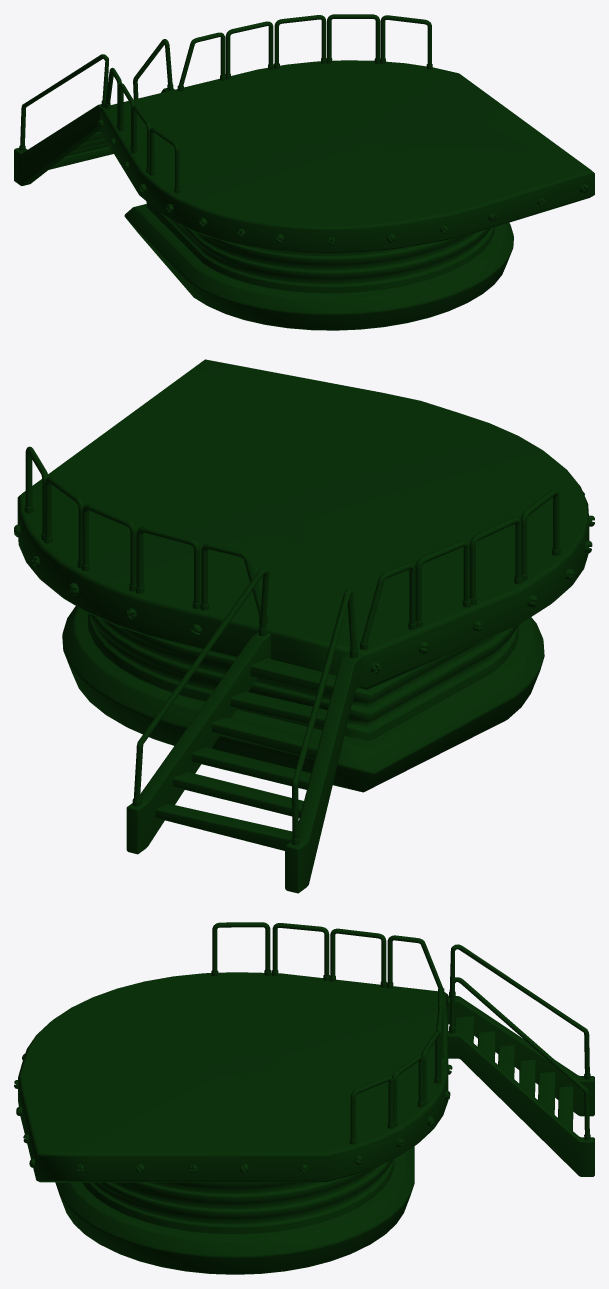
File: DrMonstro_PodiumStructure.fbx
3 renders of one model, top to bottom at view 1: azimuth 30°, elevation 25°; view 2: azimuth 150°, elevation 25°; view 3: azimuth 270°, elevation 25°, orthographic. The views are drawn at different scales.
Visible parts, largest first — view 1: podium_base, stairs_base, railing_11, stairs, railing_02, railing_05, railing_04, railing_03, railing_01, railing_09, railing_10, railing_08 (+1 smaller); view 2: podium_base, stairs_base, stairs, railing_10, railing_11, railing_02, railing_07, railing_03, railing_06, railing_08, railing_09, railing_01 (+2 smaller); view 3: podium_base, stairs_base, stairs, railing_10, railing_11, railing_09, railing_08, railing_07, railing_05, railing_06, railing_04, railing_03.
Part boxes in pixels (x1,y1,x2,y2): podium_base: (98, 60, 594, 330); stairs_base: (14, 88, 174, 185); railing_11: (19, 54, 108, 150); stairs: (49, 130, 113, 169); railing_02: (225, 21, 274, 79); railing_05: (380, 15, 432, 69); railing_04: (326, 14, 380, 63); railing_03: (274, 15, 326, 68); railing_01: (177, 32, 225, 91); railing_09: (149, 127, 180, 193); railing_10: (133, 39, 173, 99); railing_08: (131, 105, 151, 172); podium_base: (14, 359, 594, 792); stairs_base: (126, 632, 362, 893); stairs: (155, 658, 336, 850); railing_10: (132, 568, 269, 806); railing_11: (291, 589, 357, 845); railing_02: (135, 526, 201, 608); railing_07: (415, 540, 470, 627); railing_03: (81, 504, 136, 591); railing_06: (360, 563, 416, 649); railing_08: (469, 517, 522, 605); railing_09: (520, 489, 560, 580); railing_01: (200, 543, 267, 624); podium_base: (14, 972, 452, 1274); stairs_base: (447, 996, 594, 1176); stairs: (455, 1016, 573, 1130); railing_10: (449, 977, 590, 1140); railing_11: (449, 944, 590, 1079); railing_09: (211, 922, 271, 976); railing_08: (271, 923, 329, 980); railing_07: (329, 928, 386, 987); railing_05: (349, 1076, 394, 1144); railing_06: (387, 935, 444, 994); railing_04: (392, 1055, 424, 1126); railing_03: (421, 1031, 440, 1105).
Bounding box in the file's own units: 1475 × 678 × 1941.
